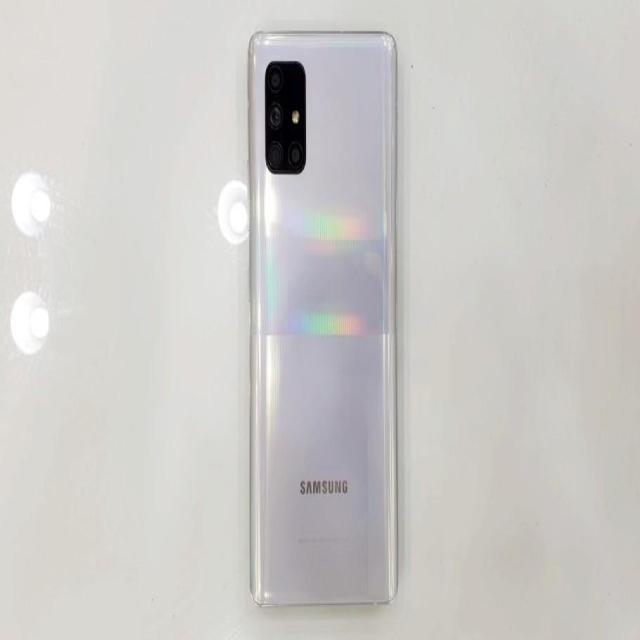cellphone: (250, 28, 400, 612)
